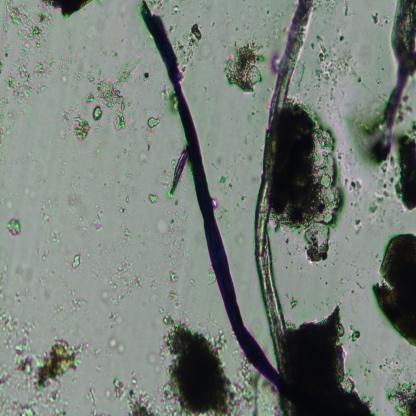Background material: (276, 102, 344, 261), (286, 302, 377, 416), (0, 313, 90, 416), (155, 310, 238, 416), (0, 0, 56, 117), (373, 230, 416, 341), (58, 82, 128, 146), (98, 259, 140, 328), (308, 33, 357, 90), (228, 362, 279, 416), (225, 38, 266, 99), (378, 355, 416, 416), (346, 101, 382, 165), (113, 372, 162, 416), (391, 131, 416, 214), (369, 158, 395, 227), (165, 216, 186, 284), (176, 18, 206, 65), (164, 149, 189, 197), (55, 27, 81, 71), (41, 0, 95, 16), (11, 264, 36, 296), (0, 98, 19, 140), (117, 55, 143, 82), (109, 221, 131, 252), (68, 175, 84, 209), (2, 214, 23, 238), (66, 289, 85, 315), (84, 384, 99, 416), (37, 192, 52, 224), (162, 85, 178, 114), (396, 94, 410, 126), (106, 337, 127, 357), (90, 346, 105, 374), (113, 199, 135, 217), (37, 273, 51, 298), (0, 262, 9, 300), (75, 212, 89, 236), (168, 287, 184, 308), (246, 100, 261, 122), (148, 274, 166, 292), (95, 201, 106, 230), (285, 291, 300, 311), (231, 227, 247, 245), (348, 176, 362, 195), (151, 0, 170, 14), (127, 114, 139, 136), (91, 144, 105, 162), (348, 322, 360, 342), (219, 176, 234, 192), (146, 114, 160, 131), (144, 348, 158, 365), (117, 185, 137, 196), (322, 0, 340, 12), (93, 64, 104, 82), (23, 186, 36, 201), (206, 268, 216, 287), (70, 252, 80, 270), (362, 367, 372, 385), (148, 191, 160, 206), (351, 216, 361, 233), (1, 43, 14, 56), (215, 208, 229, 219), (123, 148, 135, 160), (50, 230, 62, 242), (272, 11, 284, 23), (2, 196, 12, 210), (52, 300, 62, 314), (108, 47, 119, 59), (28, 151, 38, 164), (0, 140, 5, 165), (136, 152, 147, 163), (124, 169, 134, 181), (140, 70, 152, 80), (173, 1, 181, 16), (187, 275, 197, 287), (380, 13, 390, 25), (35, 178, 48, 187), (167, 23, 176, 36), (370, 11, 379, 24), (97, 46, 107, 57), (210, 159, 219, 171), (79, 248, 83, 274), (58, 154, 67, 165), (99, 243, 108, 254), (63, 261, 72, 272), (0, 60, 6, 76), (344, 0, 349, 18), (47, 266, 56, 276), (355, 281, 366, 289), (374, 76, 383, 85), (250, 30, 258, 40), (338, 276, 346, 286), (240, 23, 251, 30), (265, 36, 271, 48), (104, 390, 112, 398), (41, 251, 49, 259), (355, 269, 362, 276), (356, 76, 362, 84), (234, 202, 240, 210), (244, 132, 248, 144), (224, 19, 230, 27), (240, 193, 245, 202), (248, 5, 255, 11), (146, 142, 150, 152), (127, 98, 132, 106), (262, 19, 267, 27), (61, 168, 65, 176), (64, 280, 68, 288), (86, 251, 90, 259), (266, 8, 270, 16), (105, 172, 110, 178), (126, 196, 130, 203), (204, 85, 208, 92), (115, 162, 120, 167), (350, 288, 354, 294), (222, 44, 226, 50), (20, 173, 23, 180), (120, 38, 124, 43), (47, 140, 52, 144), (234, 42, 238, 47), (381, 67, 385, 71), (290, 260, 294, 264), (14, 192, 18, 196), (225, 11, 229, 15), (207, 32, 211, 36), (331, 262, 335, 266), (235, 26, 238, 31), (211, 22, 214, 27), (116, 180, 119, 184), (110, 184, 113, 188), (197, 15, 201, 18), (299, 266, 303, 269), (285, 265, 288, 269), (324, 282, 328, 285), (241, 0, 245, 3), (262, 6, 264, 11), (104, 182, 106, 186), (320, 277, 322, 280), (324, 264, 326, 267)
Cellulose filter fibre: (254, 0, 319, 361), (376, 0, 416, 153)
Cotton: (141, 0, 281, 384)
